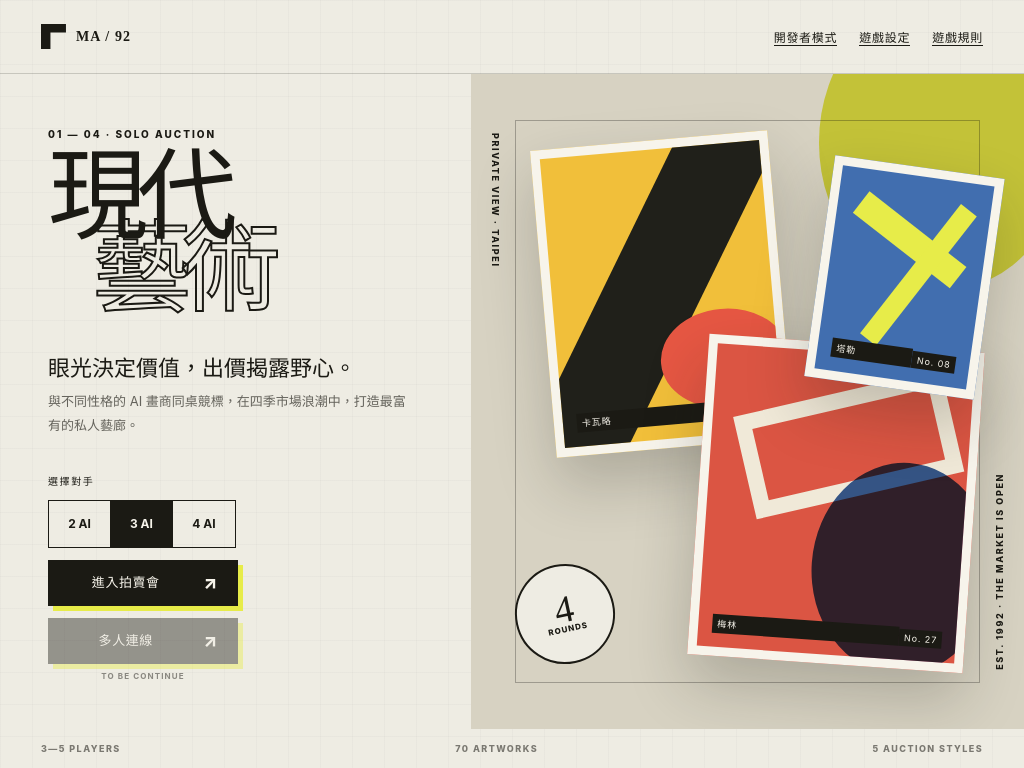
Test case: HomeView › opens the game rules from the home page
Step 1. Click the button "遊戲規則" → (958, 36), box [932, 28, 983, 46]
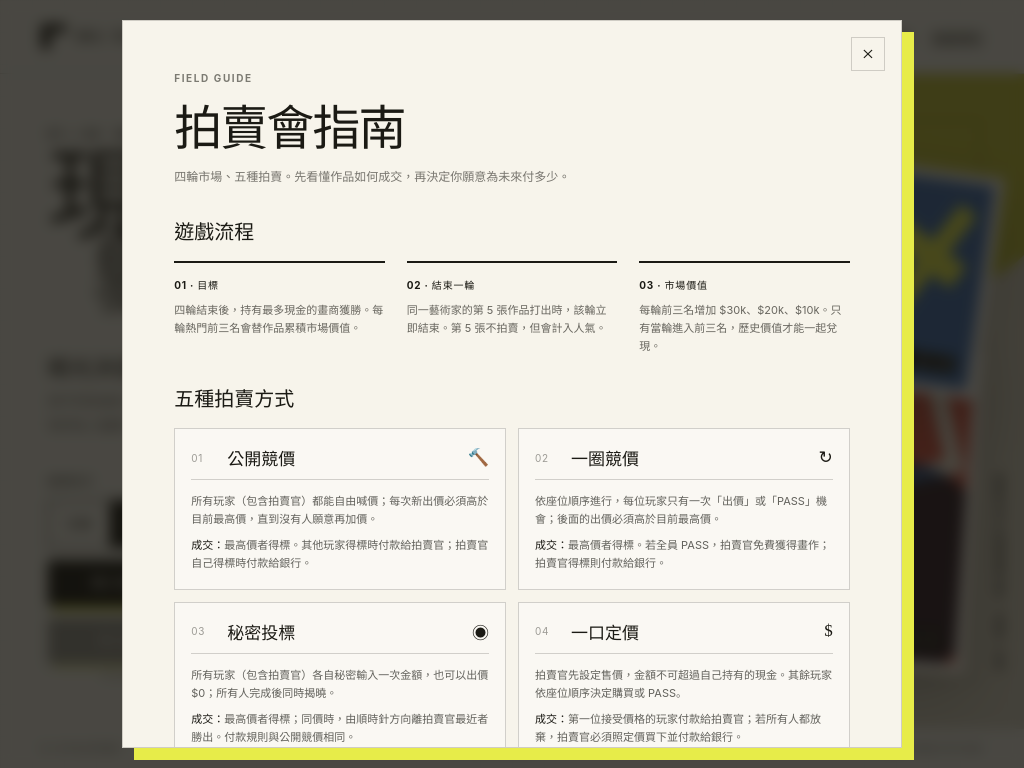
Expected: the dialog is shown
Expected: the dialog shows "公開競價", [227, 450, 295, 469]
Expected: the dialog shows "一圈競價", [571, 450, 639, 469]
